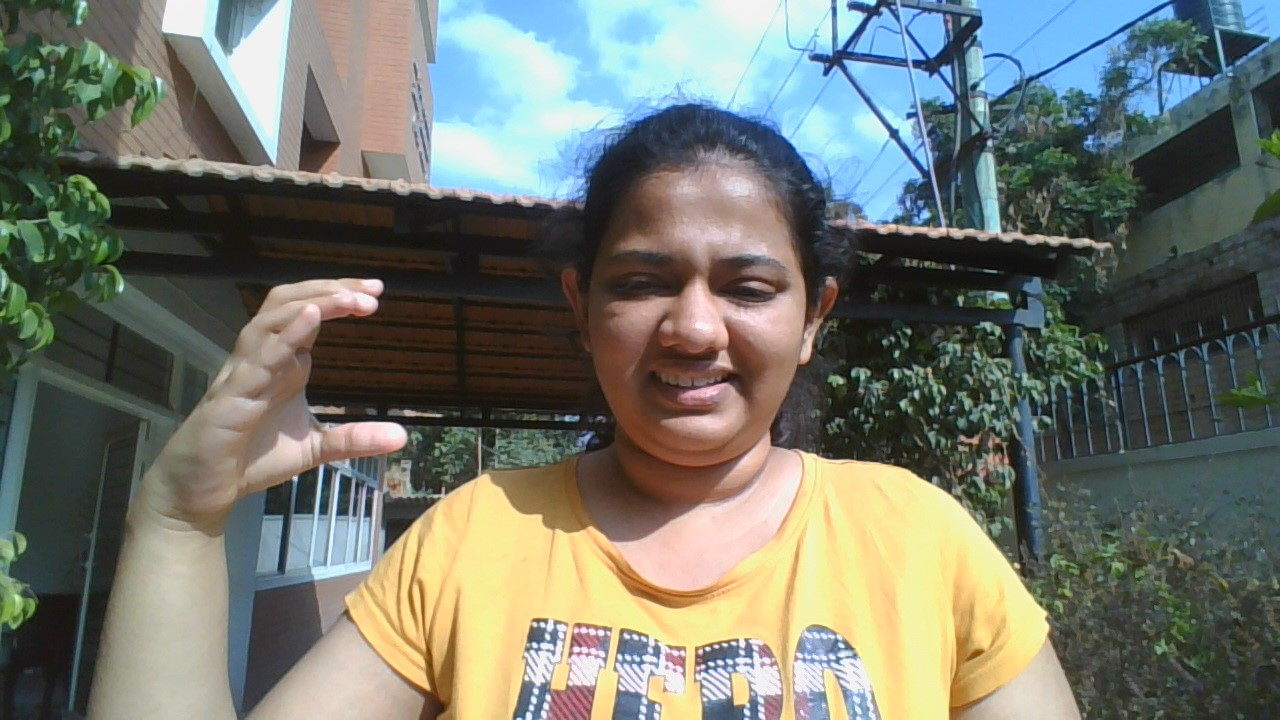c: (118, 261, 443, 554)
